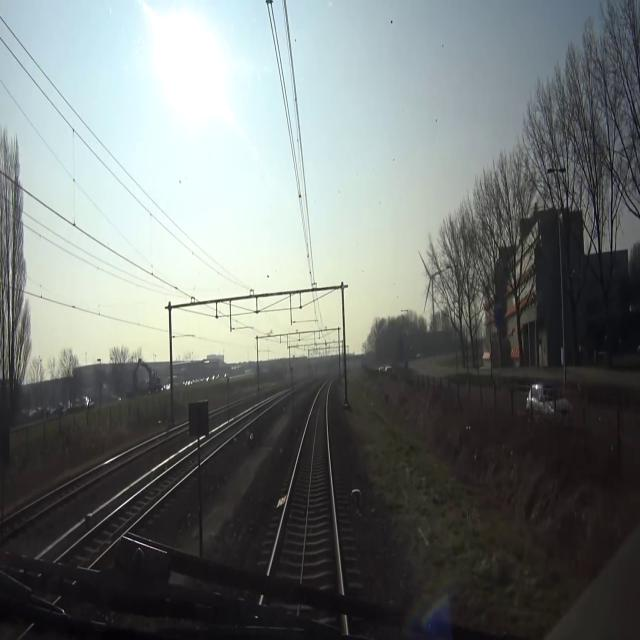rail-track: (51, 453, 197, 574), (270, 385, 340, 599), (0, 481, 82, 535), (202, 415, 253, 456)
